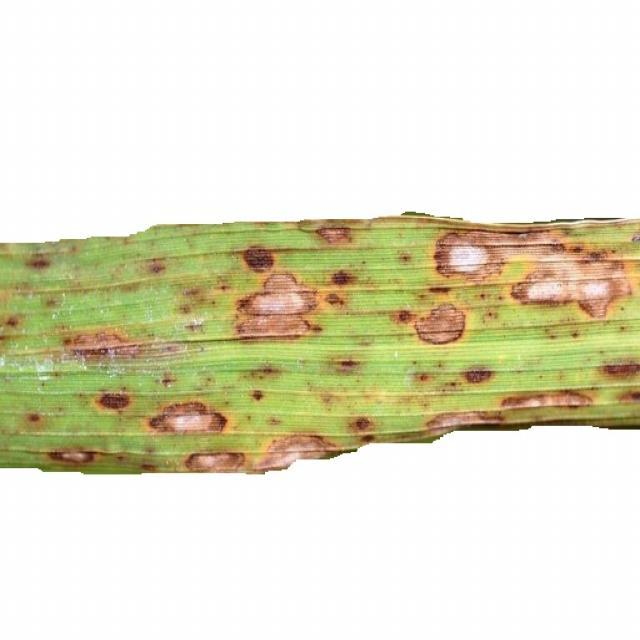brownspots: (512, 226, 636, 318), (58, 322, 162, 372), (234, 280, 322, 335), (432, 223, 508, 283), (147, 398, 230, 441), (412, 291, 472, 350), (499, 387, 594, 417), (112, 443, 178, 472), (182, 443, 246, 472), (425, 408, 500, 431), (308, 222, 359, 252), (260, 438, 336, 458), (236, 238, 280, 272), (344, 410, 388, 444), (594, 354, 640, 384), (544, 326, 633, 341), (44, 445, 98, 468), (94, 387, 132, 415), (479, 286, 504, 325), (330, 351, 362, 376), (461, 362, 494, 384), (145, 256, 169, 284), (328, 270, 357, 289), (20, 408, 46, 429), (2, 307, 20, 335), (250, 361, 280, 377), (390, 305, 412, 326), (410, 365, 433, 385), (26, 252, 48, 272), (394, 246, 414, 266), (621, 382, 640, 403), (322, 294, 344, 310), (43, 294, 60, 312), (265, 414, 282, 428), (252, 462, 281, 470), (250, 388, 264, 403), (70, 245, 79, 258)
